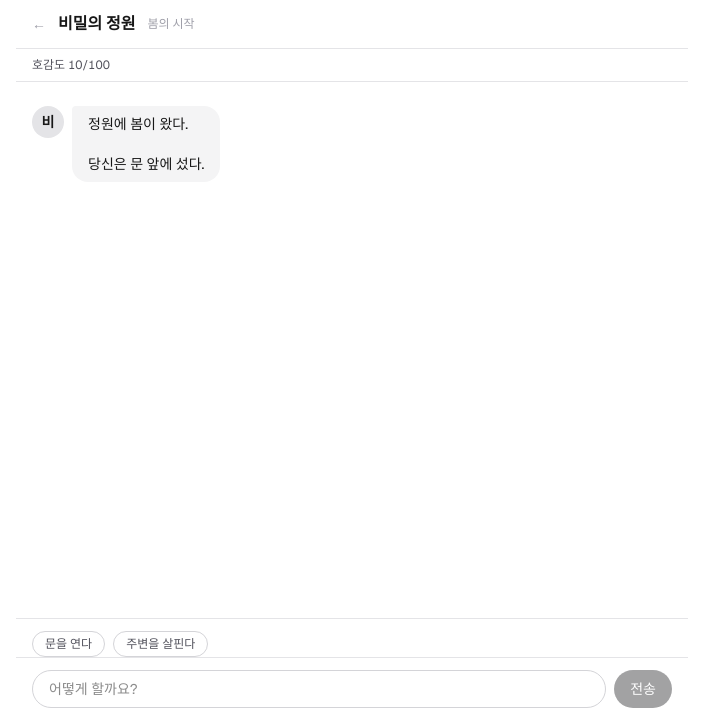
Test: StoryPlayScreen (#48) › 추천 첫 답변 칩 클릭 시 입력창을 채운다(전송 아님)
Expected: the text "정원에 봄이 왔다. 당신은 문 앞에 섰다." is shown, [72,106,220,182]
Click the button "문을 연다". click: click(69, 644)
box: [32,631,105,657]
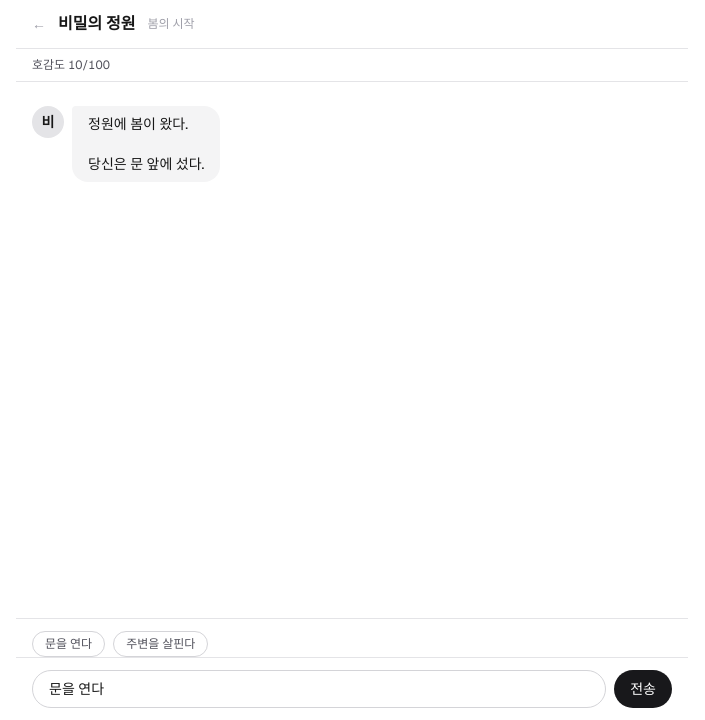
Expected: the field named "메시지 입력" holds "문을 연다", [32,670,606,708]
